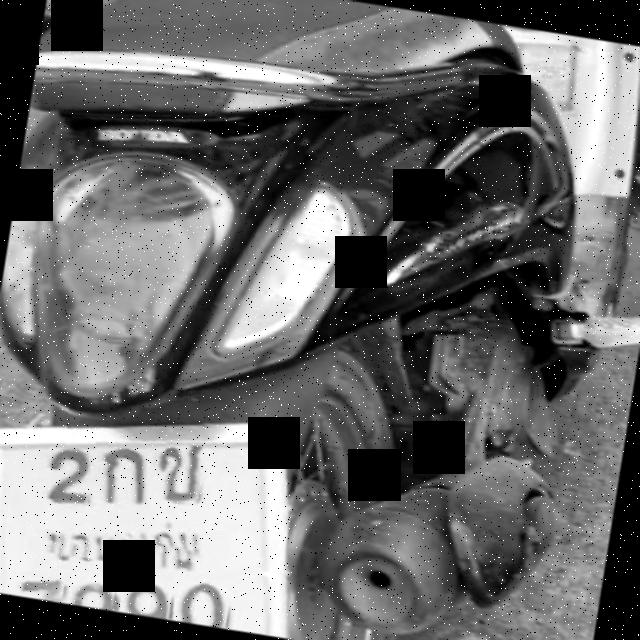letters: (88, 439, 158, 509), (158, 442, 210, 506), (41, 446, 96, 506), (171, 578, 232, 629), (118, 580, 174, 620), (66, 573, 117, 611), (15, 572, 65, 603)
license-plate: (0, 435, 276, 636)
province: (26, 514, 222, 578)
